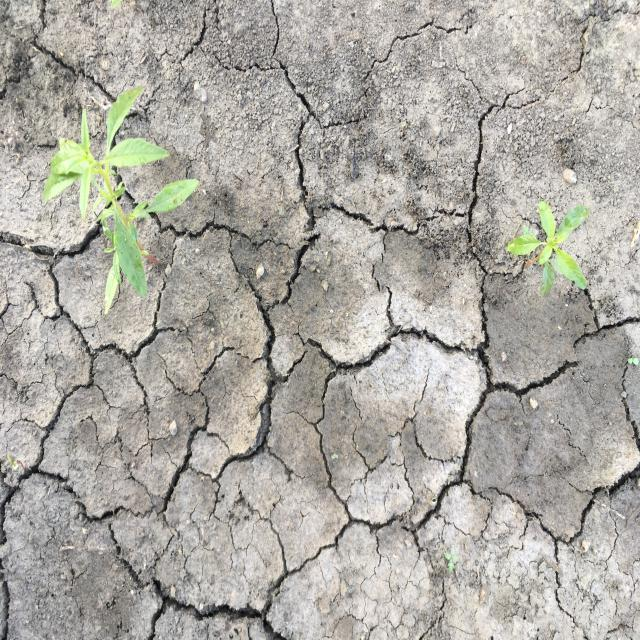Waterhemp: (41, 84, 200, 317), (506, 198, 590, 297)
